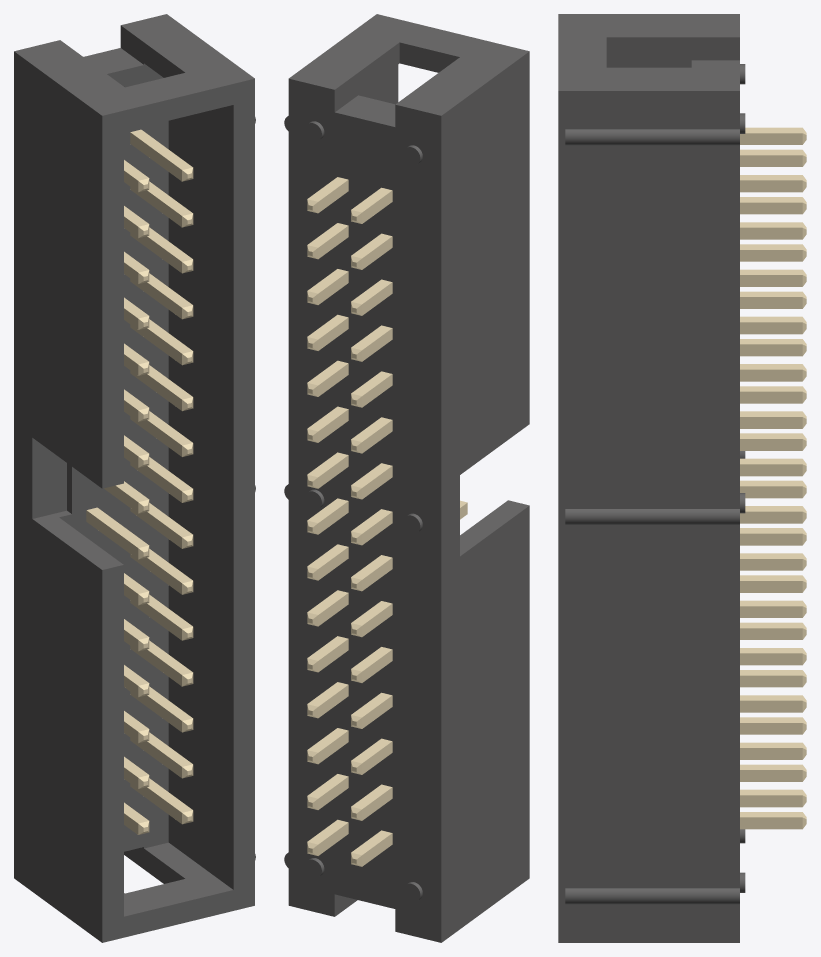
File: IDC-Header_2x15_P2.54mm_Vertical.glb
3 renders of one model, left to right at view 1: azimuth 30°, elevation 25°; view 2: azimuth 150°, elevation 25°; view 3: azimuth 270°, elevation 25°, orthographic. The views are drawn at different scales.
Parts seen in each view (by area): view 1: Shape_IndexedFaceSet, Shape_IndexedFaceSet.014, Shape_IndexedFaceSet.002, Shape_IndexedFaceSet.017, Shape_IndexedFaceSet.001, Shape_IndexedFaceSet.013, Shape_IndexedFaceSet.004, Shape_IndexedFaceSet.005, Shape_IndexedFaceSet.011, Shape_IndexedFaceSet.019, Shape_IndexedFaceSet.026, Shape_IndexedFaceSet.127 (+17 smaller); view 2: Shape_IndexedFaceSet.007, Shape_IndexedFaceSet, Shape_IndexedFaceSet.001, Shape_IndexedFaceSet.011, Shape_IndexedFaceSet.005, Shape_IndexedFaceSet.026, Shape_IndexedFaceSet.010, Shape_IndexedFaceSet.014; view 3: Shape_IndexedFaceSet.008, Shape_IndexedFaceSet.001, Shape_IndexedFaceSet.009, Shape_IndexedFaceSet.023, Shape_IndexedFaceSet.025, Shape_IndexedFaceSet.024, Shape_IndexedFaceSet.046, Shape_IndexedFaceSet.074, Shape_IndexedFaceSet.088, Shape_IndexedFaceSet.144, Shape_IndexedFaceSet.172, Shape_IndexedFaceSet.186 (+25 smaller).
Part boxes in pixels (x1,y1,x2,y2): Shape_IndexedFaceSet: (14, 51, 102, 942); Shape_IndexedFaceSet.014: (168, 105, 233, 889); Shape_IndexedFaceSet.002: (102, 78, 254, 942); Shape_IndexedFaceSet.017: (59, 63, 168, 851); Shape_IndexedFaceSet.001: (14, 14, 254, 115); Shape_IndexedFaceSet.013: (124, 842, 232, 916); Shape_IndexedFaceSet.004: (32, 438, 66, 518); Shape_IndexedFaceSet.005: (33, 510, 123, 569); Shape_IndexedFaceSet.011: (120, 25, 184, 77); Shape_IndexedFaceSet.019: (124, 847, 184, 883); Shape_IndexedFaceSet.026: (84, 48, 143, 73); Shape_IndexedFaceSet.127: (86, 510, 138, 559); Shape_IndexedFaceSet.007: (284, 78, 441, 942); Shape_IndexedFaceSet: (441, 51, 529, 942); Shape_IndexedFaceSet.001: (289, 14, 529, 115); Shape_IndexedFaceSet.011: (334, 42, 399, 111); Shape_IndexedFaceSet.005: (460, 500, 529, 556); Shape_IndexedFaceSet.026: (335, 95, 395, 126); Shape_IndexedFaceSet.010: (399, 42, 459, 72); Shape_IndexedFaceSet.014: (358, 64, 398, 104); Shape_IndexedFaceSet.008: (558, 91, 739, 942); Shape_IndexedFaceSet.001: (558, 14, 739, 90); Shape_IndexedFaceSet.009: (606, 37, 739, 60); Shape_IndexedFaceSet.023: (565, 888, 739, 904); Shape_IndexedFaceSet.025: (565, 129, 739, 145); Shape_IndexedFaceSet.024: (565, 509, 739, 524); Shape_IndexedFaceSet.046: (740, 795, 802, 807); Shape_IndexedFaceSet.074: (740, 700, 802, 712); Shape_IndexedFaceSet.088: (740, 653, 802, 665); Shape_IndexedFaceSet.144: (740, 464, 802, 476); Shape_IndexedFaceSet.172: (740, 369, 802, 381); Shape_IndexedFaceSet.186: (740, 322, 802, 334).
Bounding box in the file's own units: 3.58 × 18.02 × 4.76.
